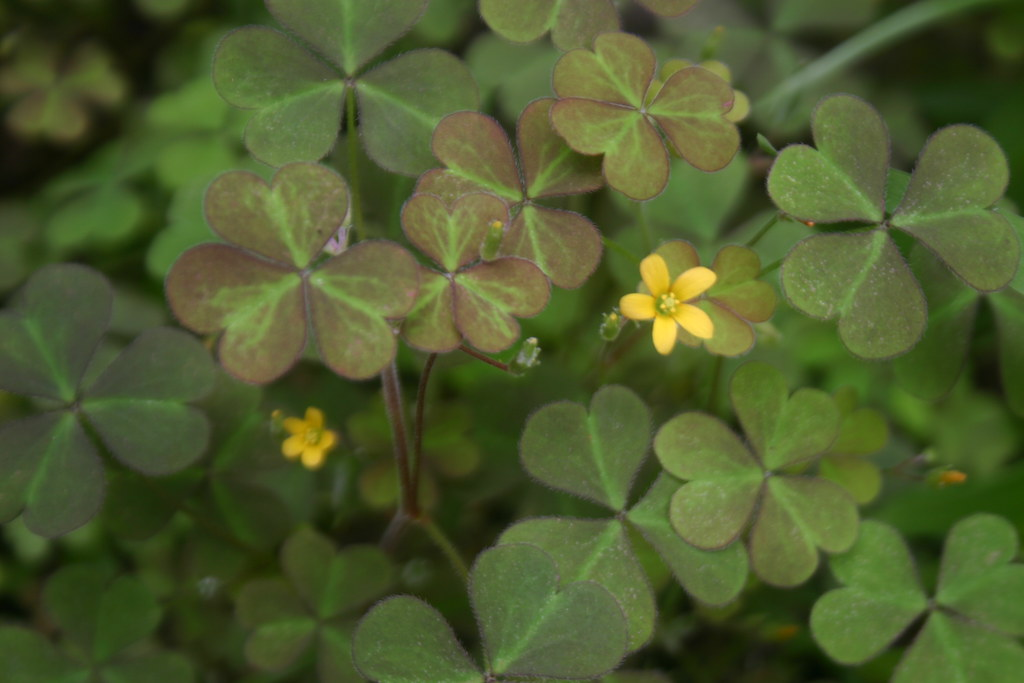oxalis: (77, 36, 756, 340), (370, 335, 940, 683), (773, 59, 999, 364)
